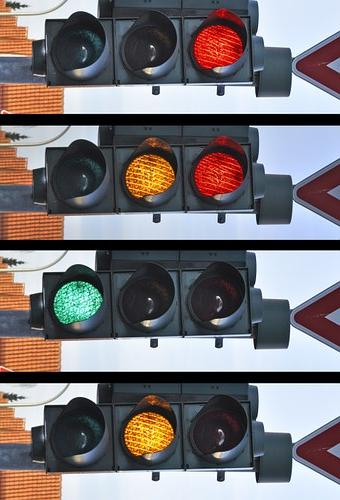trafic: (32, 380, 261, 474), (31, 253, 260, 347), (39, 123, 268, 217), (43, 1, 272, 93)
